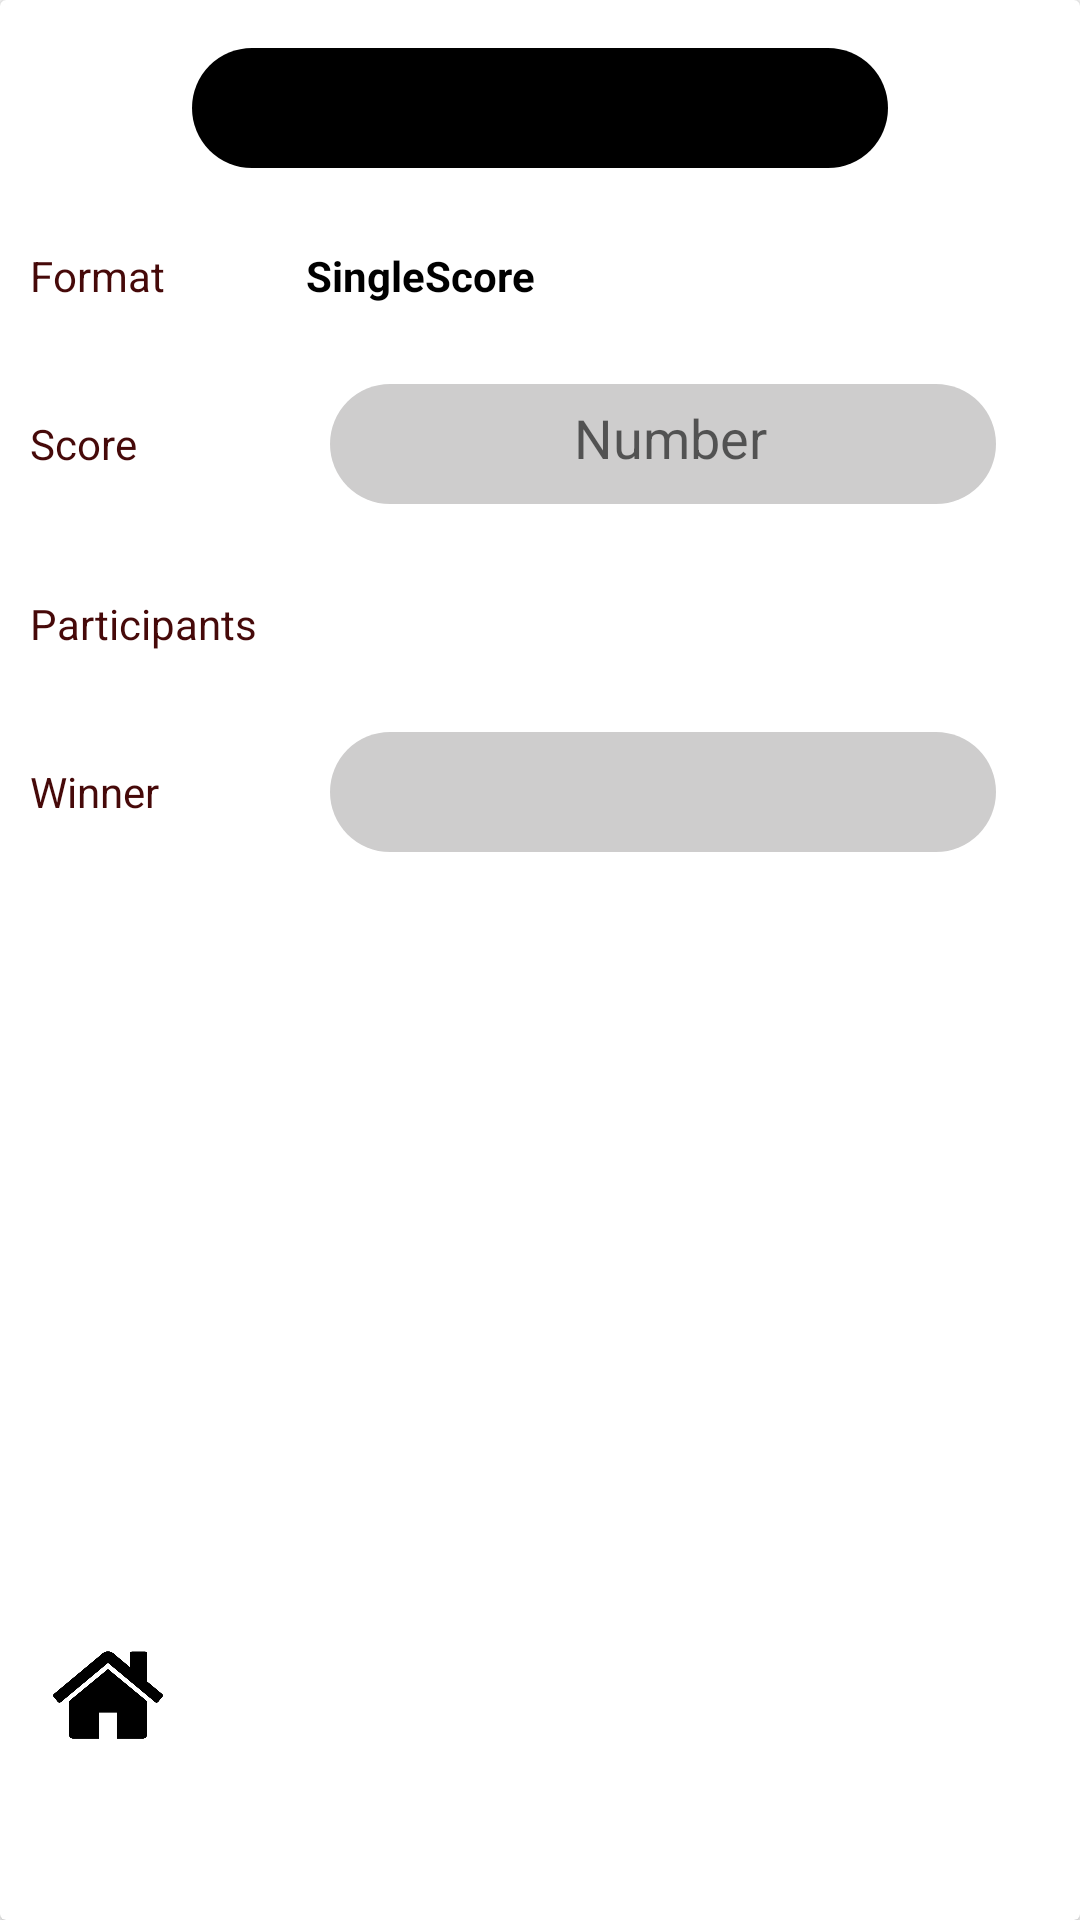

Icons on this 1080 x 1920 Android screen, each with the point to tap as [x,y]:
home: [108,1695]
